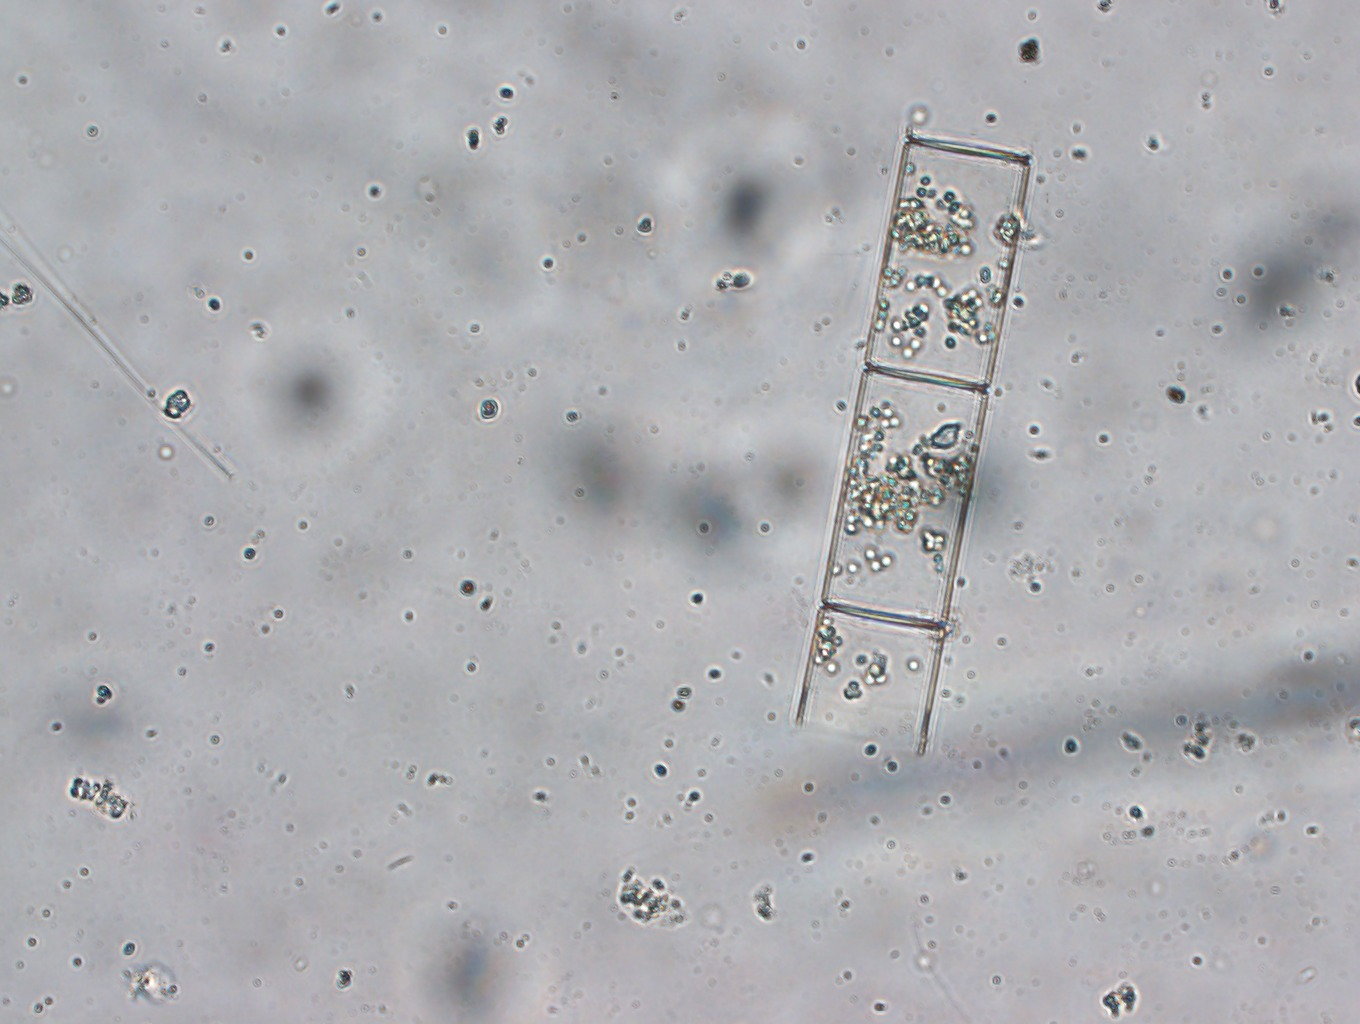guinardia flaccida: (794, 126, 1035, 759)
